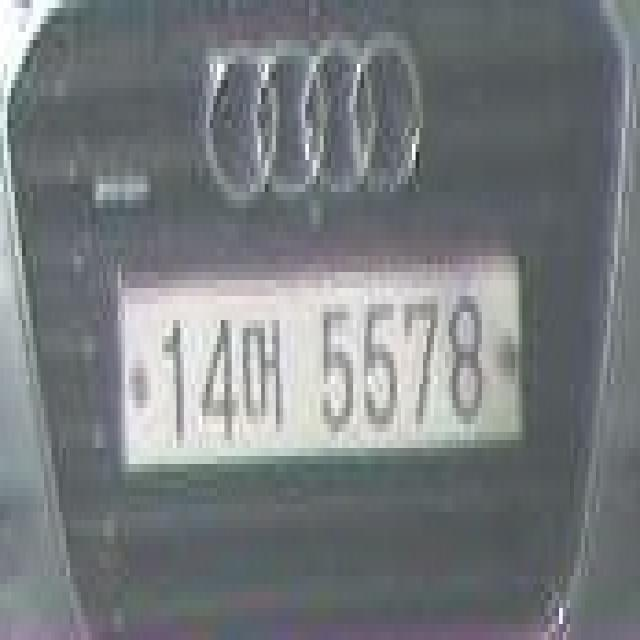1: (154, 296, 195, 464)
4: (199, 304, 239, 456)
5: (312, 296, 360, 448), (360, 288, 404, 448)
7: (401, 288, 445, 440)
8: (441, 272, 493, 432)
license_plate: (110, 224, 537, 496)
meo: (239, 304, 291, 448)
